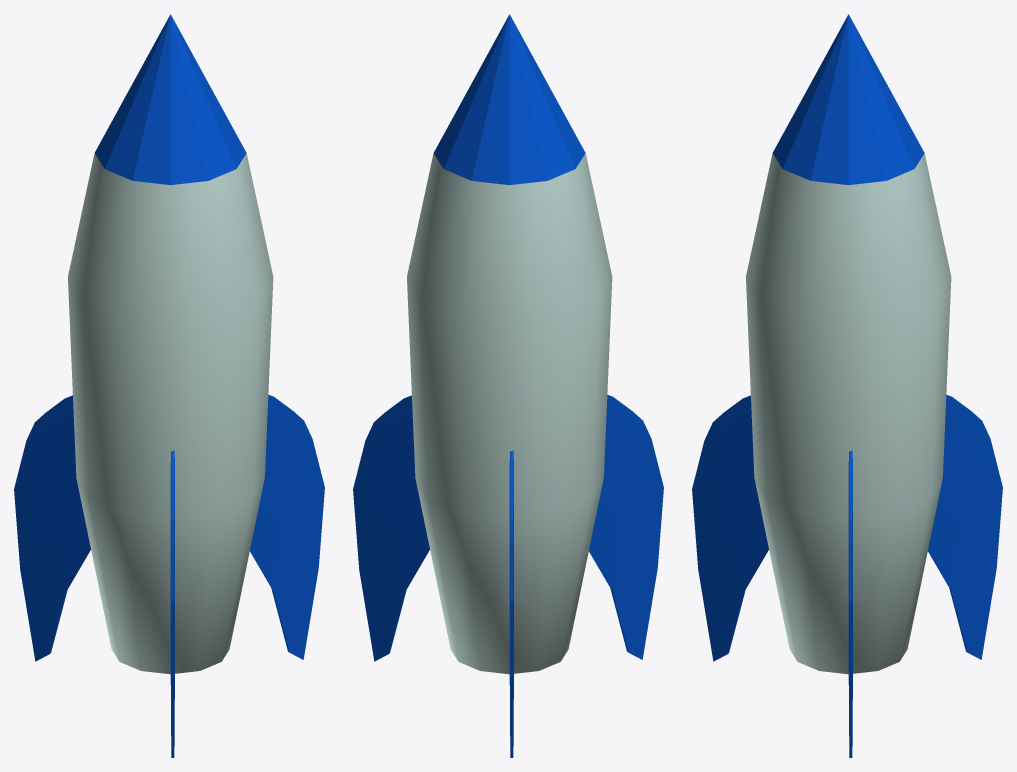
The model's file is RocketShip01.fbx.
3 renders of one model, left to right at view 1: azimuth 30°, elevation 25°; view 2: azimuth 150°, elevation 25°; view 3: azimuth 270°, elevation 25°, orthographic.
Parts seen in each view (by area): view 1: RocketBody, RocketTip, Fins01, Fins02, Fins03; view 2: RocketBody, RocketTip, Fins02, Fins03, Fins01; view 3: RocketBody, RocketTip, Fins03, Fins01, Fins02.
Part boxes in pixels (bbox=[...]): RocketBody: bbox=[68, 153, 273, 674]; RocketTip: bbox=[95, 14, 246, 185]; Fins01: bbox=[14, 395, 90, 661]; Fins02: bbox=[250, 394, 324, 659]; Fins03: bbox=[170, 450, 174, 757]; RocketBody: bbox=[407, 153, 612, 674]; RocketTip: bbox=[434, 14, 585, 185]; Fins02: bbox=[353, 395, 429, 661]; Fins03: bbox=[589, 394, 663, 659]; Fins01: bbox=[509, 450, 513, 757]; RocketBody: bbox=[746, 153, 951, 674]; RocketTip: bbox=[773, 14, 924, 185]; Fins03: bbox=[692, 395, 768, 661]; Fins01: bbox=[928, 394, 1002, 659]; Fins02: bbox=[848, 450, 852, 757].
Bounding box in the file's own units: 75.76 × 202 × 83.75.
